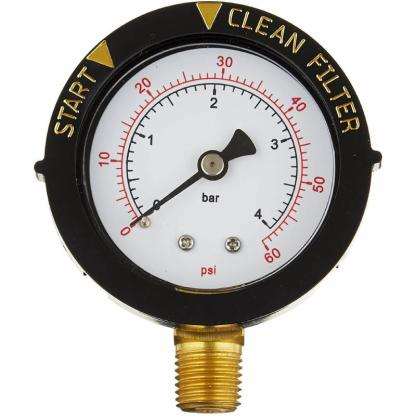needle: (128, 171, 203, 227)
